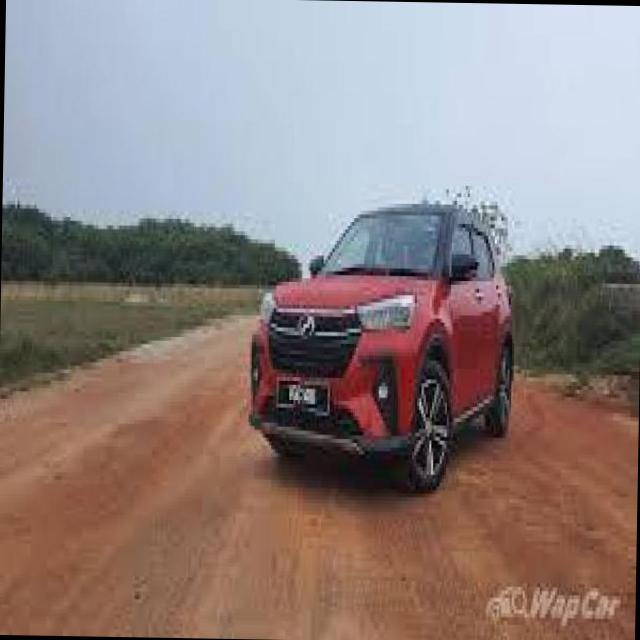PeroduaAtiva: (244, 196, 518, 494)
